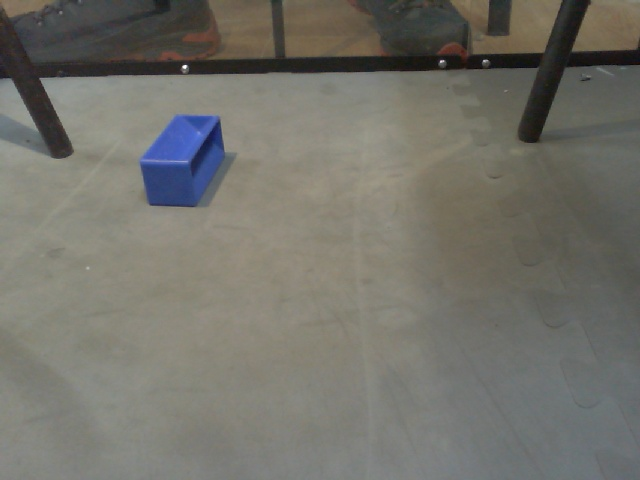BlueSample: (135, 112, 228, 212)
